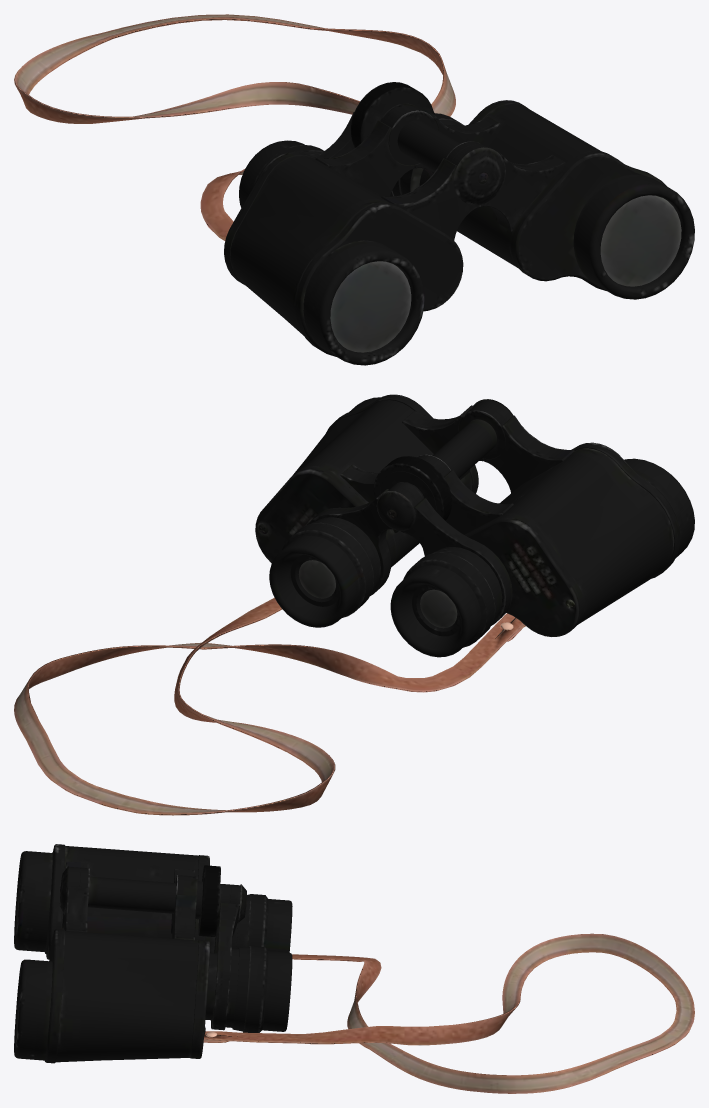
The model's file is fernglas.glb.
3 renders of one model, top to bottom at view 1: azimuth 30°, elevation 25°; view 2: azimuth 150°, elevation 25°; view 3: azimuth 270°, elevation 25°, orthographic. The views are drawn at different scales.
Visible parts, largest first — view 1: binoculars_left, binoculars_strap; view 2: binoculars_left, binoculars_strap; view 3: binoculars_left, binoculars_strap.
Part boxes in pixels (box(x1,y1,x2,y2)): binoculars_left: box(224, 82, 694, 365); binoculars_strap: box(14, 14, 455, 240); binoculars_left: box(255, 394, 694, 657); binoculars_strap: box(14, 597, 525, 815); binoculars_left: box(14, 844, 292, 1063); binoculars_strap: box(203, 933, 694, 1093).
Bounding box in the file's own units: 0.1669 × 0.0663 × 0.2879.
2 materials, 2 textured.
